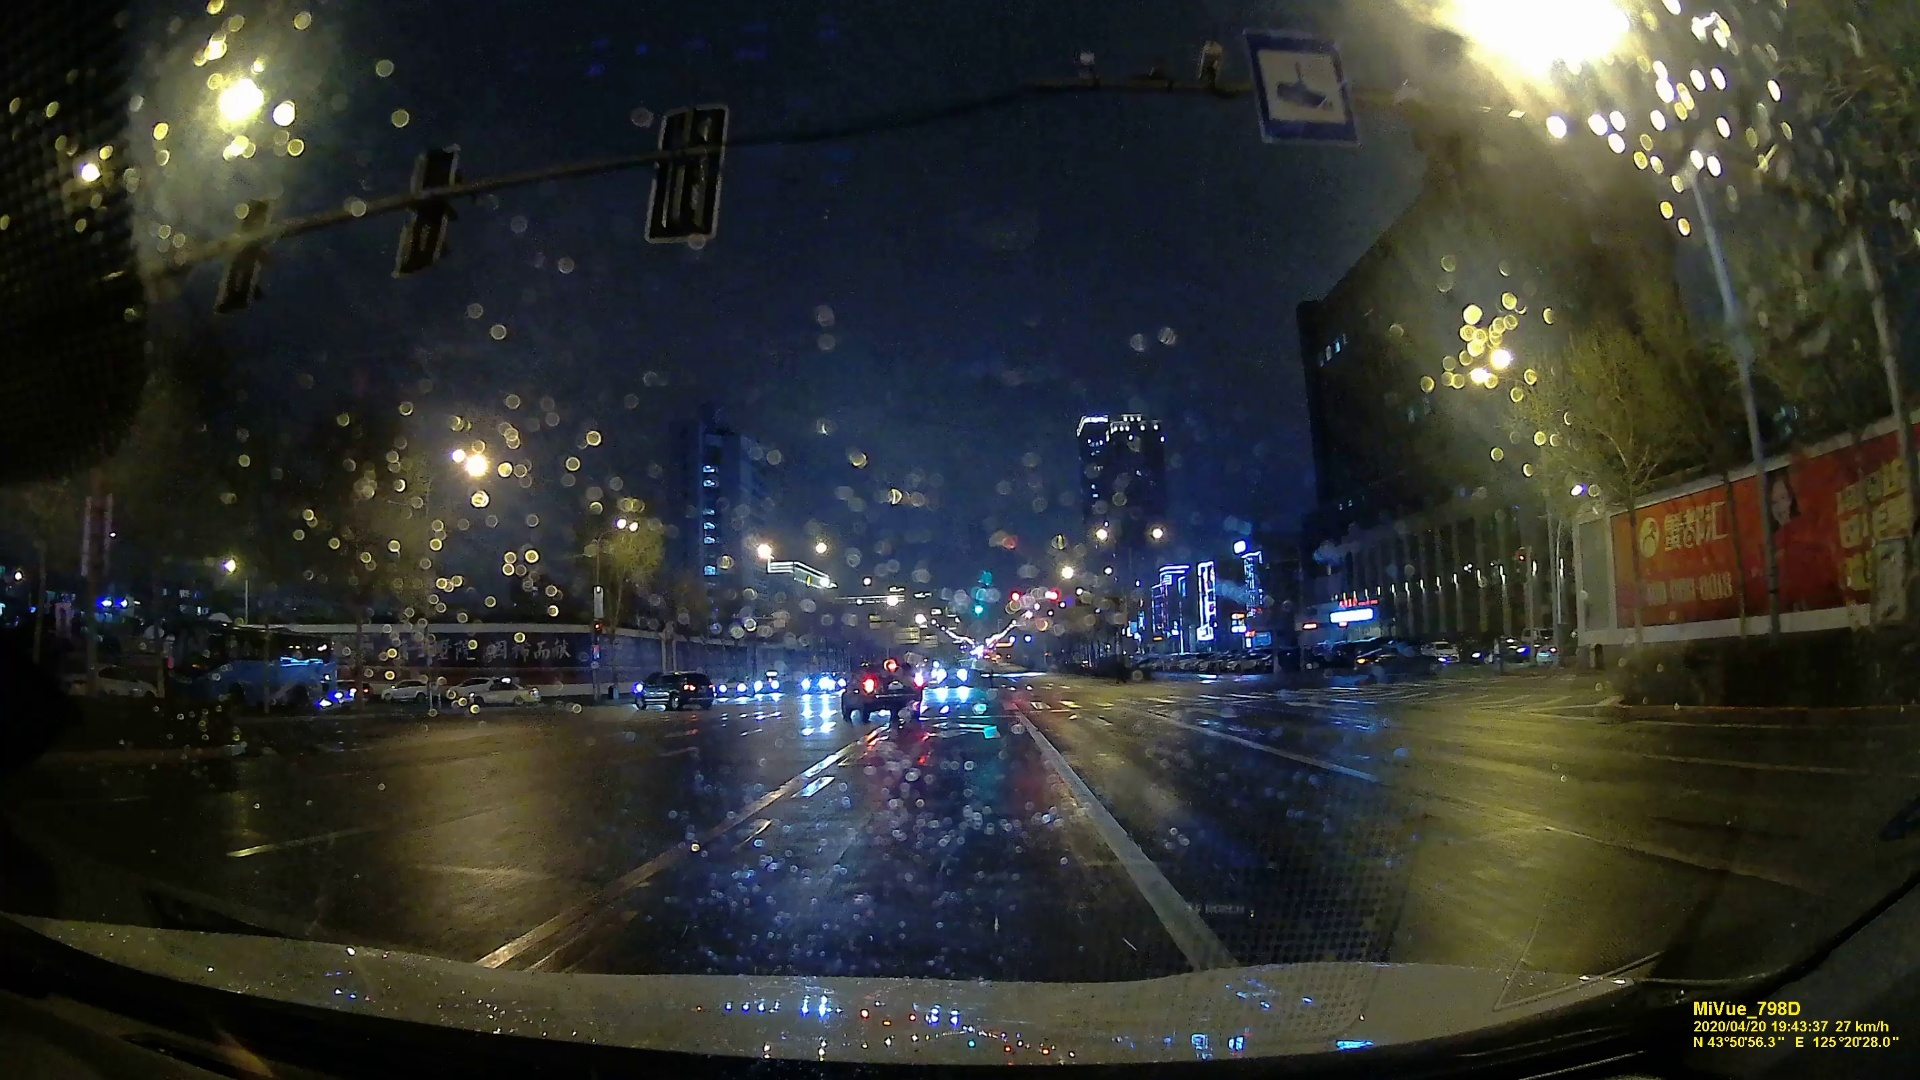bus: (174, 621, 331, 707)
traffic_sign: (1244, 41, 1360, 138)
vehicle: (839, 665, 922, 719), (633, 670, 715, 709), (471, 679, 541, 707), (928, 665, 964, 688)
